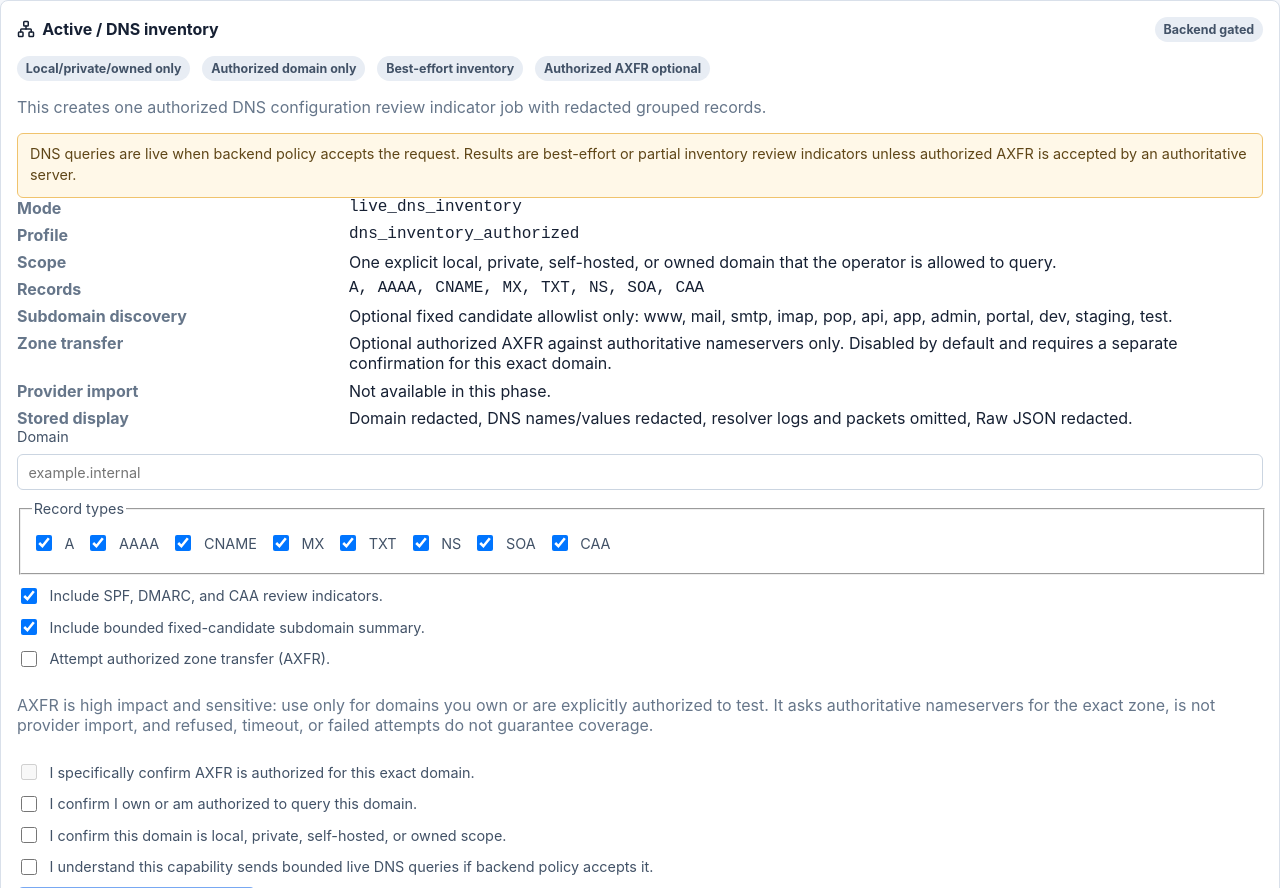
Scenario: ActiveDnsInventoryPanel › renders disabled backend errors without reflecting domain values
Type "secret.example.internal" into the field labelled "Domain". click: (640, 472)
box: [17,454,1263,490]
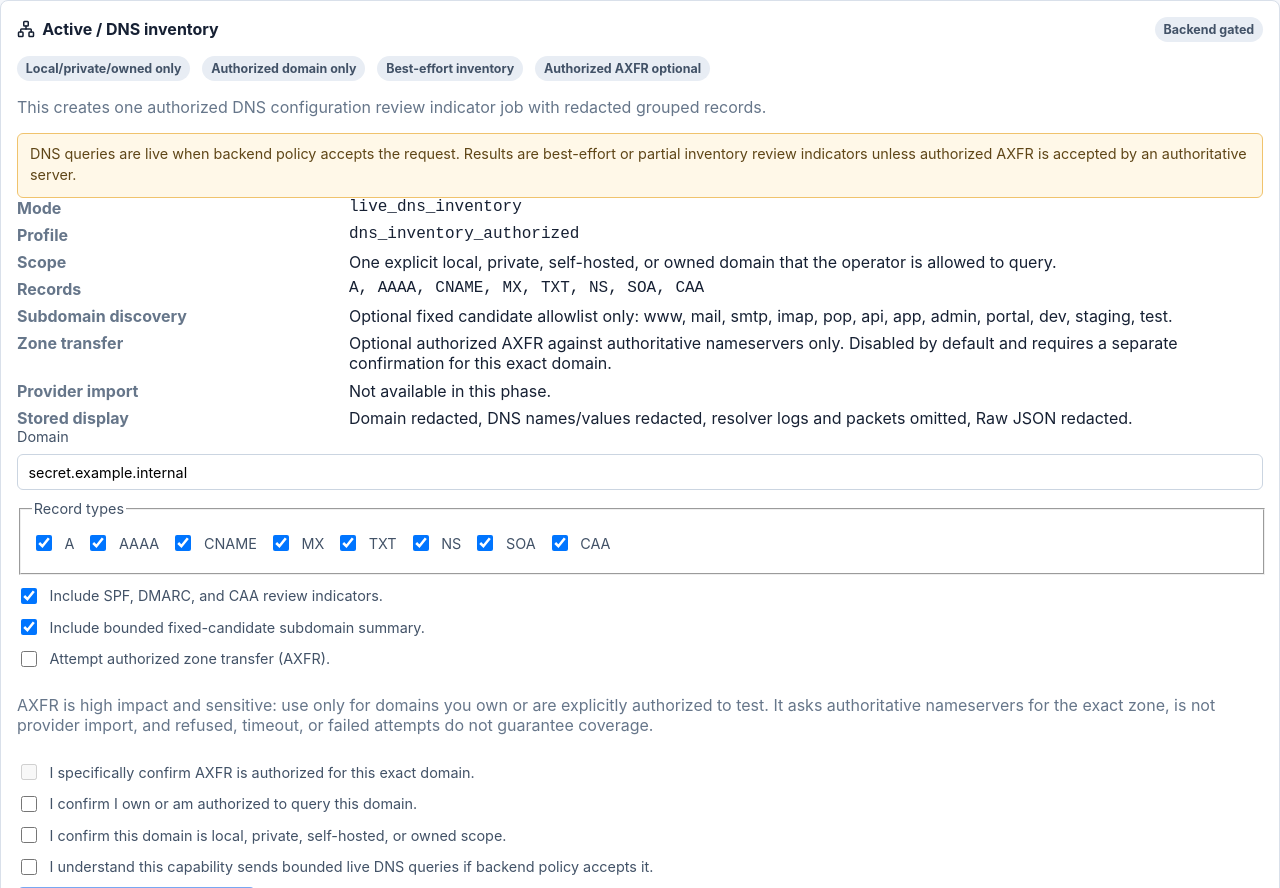
Click the checkbox labelled "I confirm I own or am authorized to query this domain.". click: (29, 804)
box: [21,796,37,812]
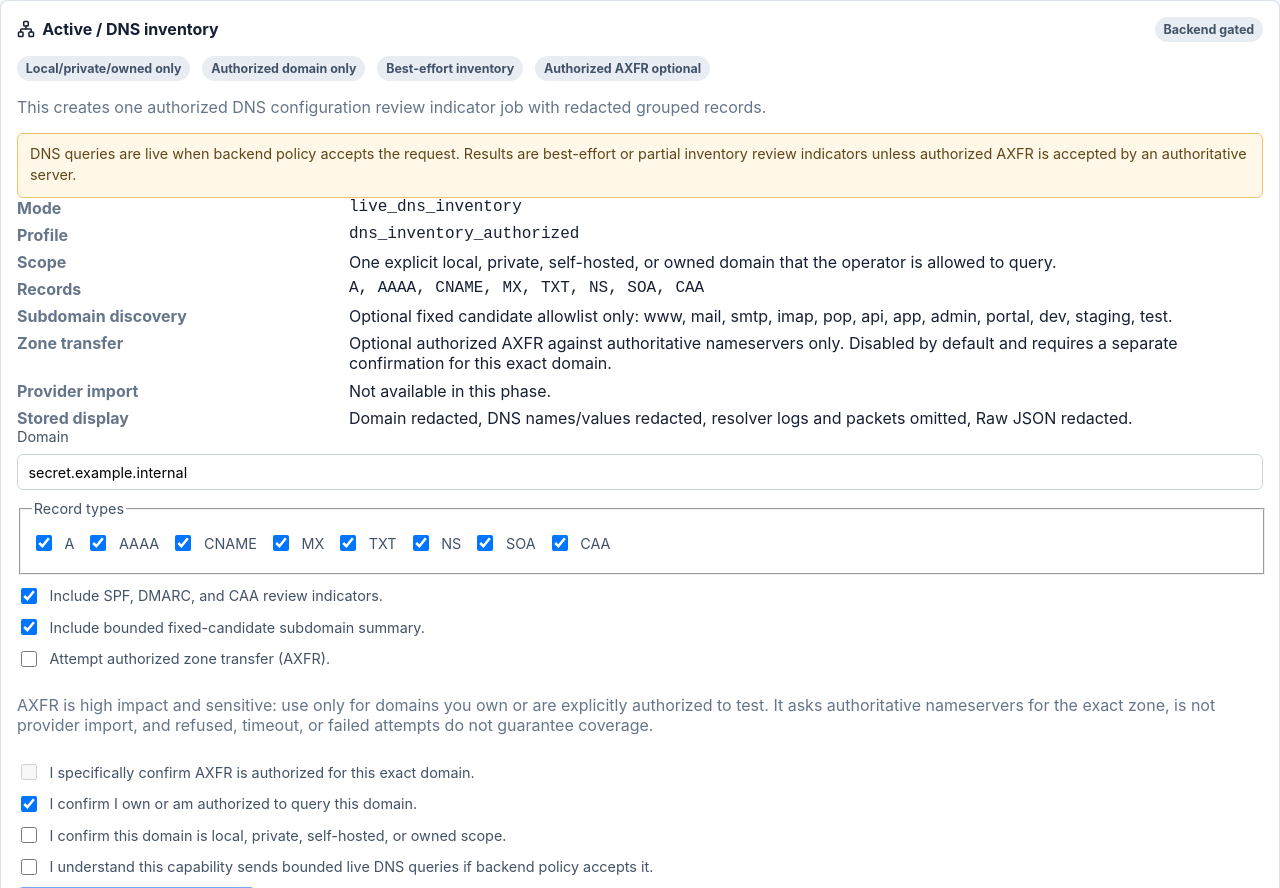
Click the checkbox labelled "I confirm this domain is local, private, self-hosted, or owned scope.". click: (29, 835)
box: [21,827,37,843]
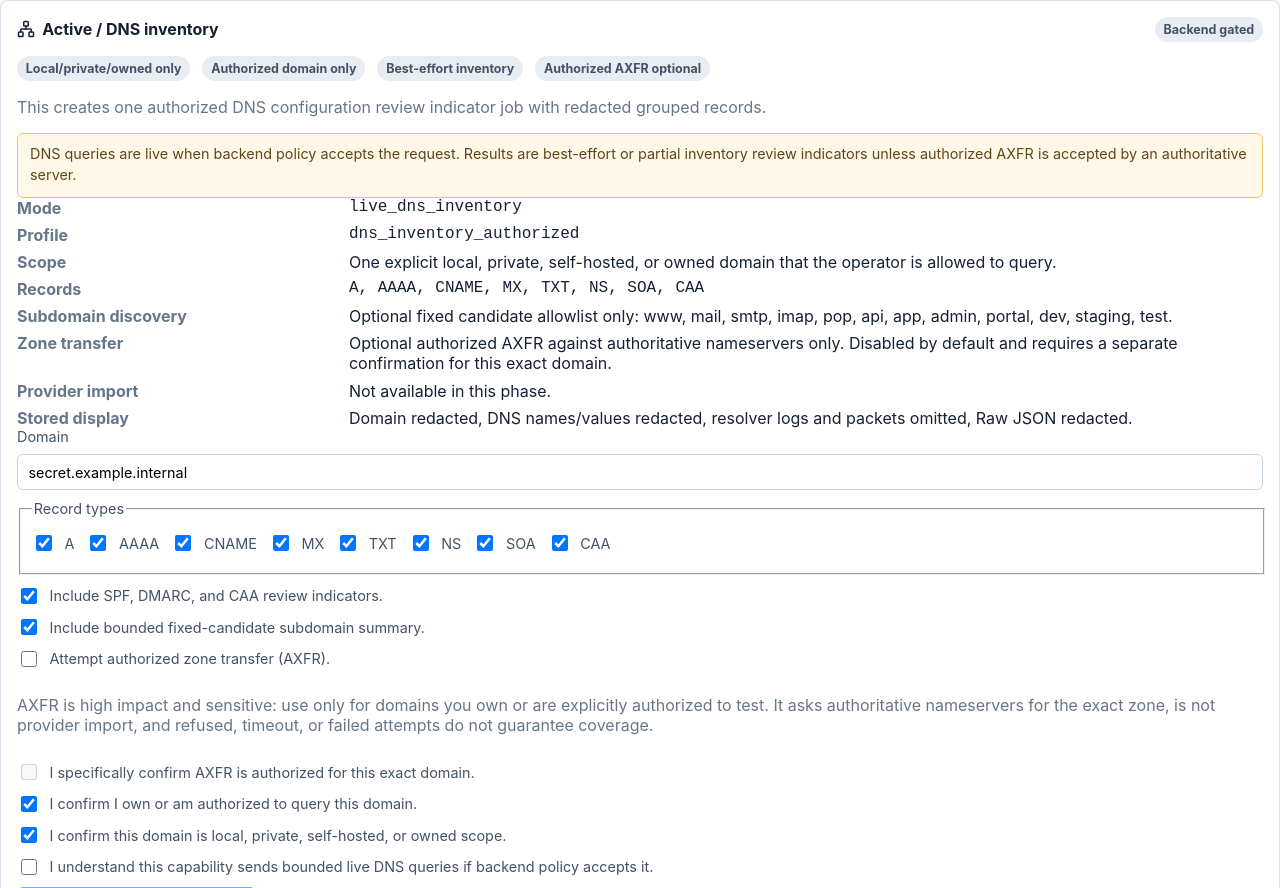
Click the checkbox named "I understand this capability sends bounded live DNS queries if backend policy accepts it.". click: (29, 867)
box: [21,859,37,875]
(page scrolled)
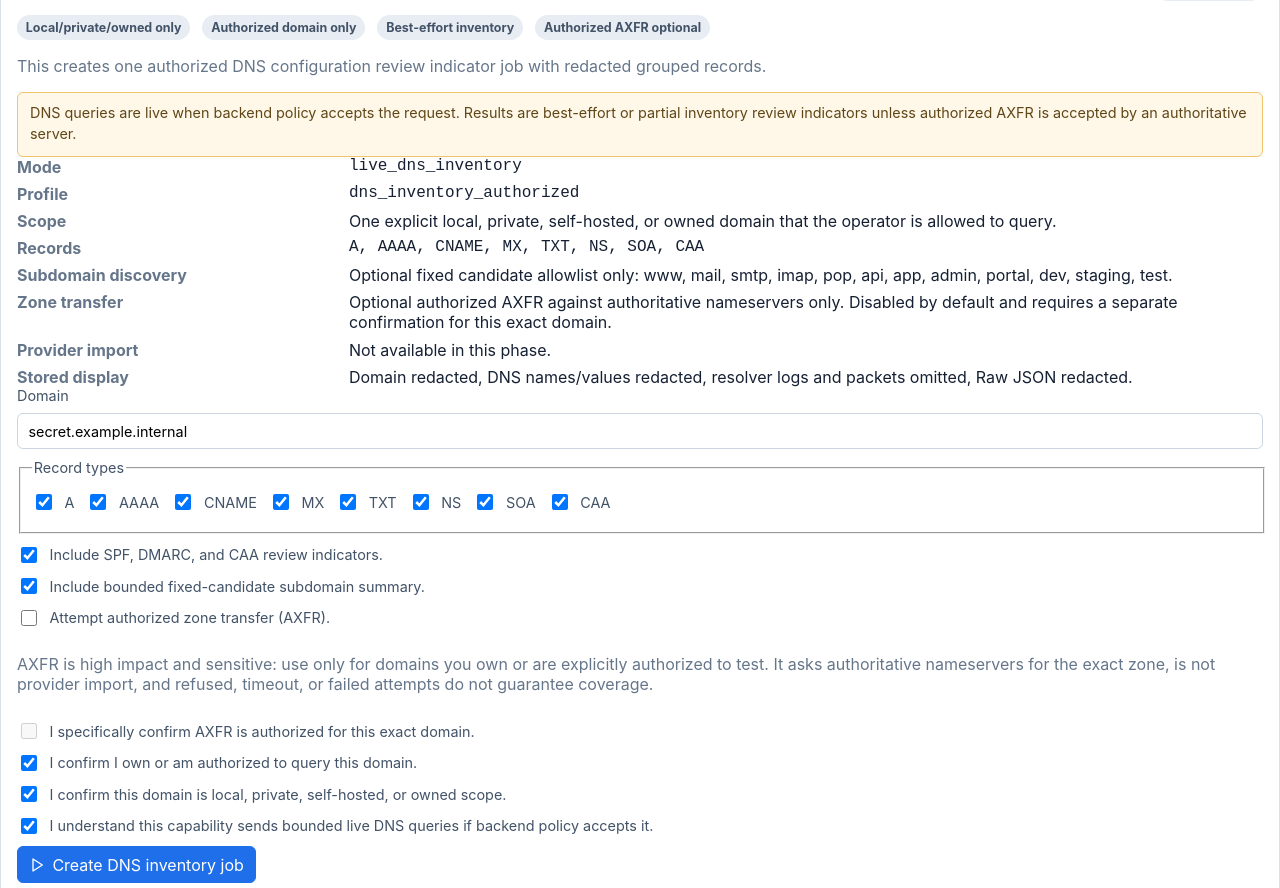
Click the button "Create DNS inventory job". click: (136, 865)
box: [17,846,256,883]
(page scrolled)
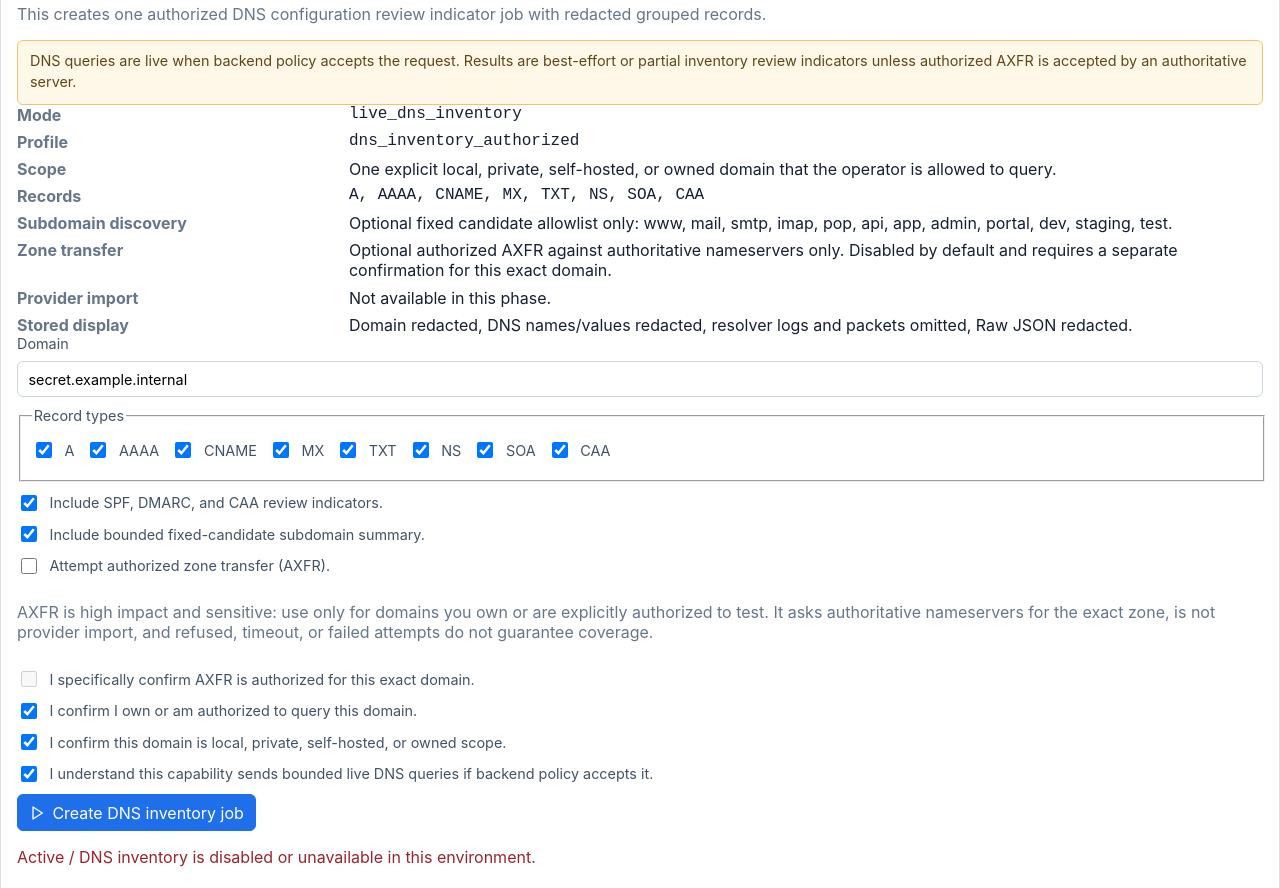
Expected: the text "secret.example.internal" is not shown
Now the text "Active / DNS inventory is disabled or unavailable in this environment." is shown, box [17,847,536,867]
